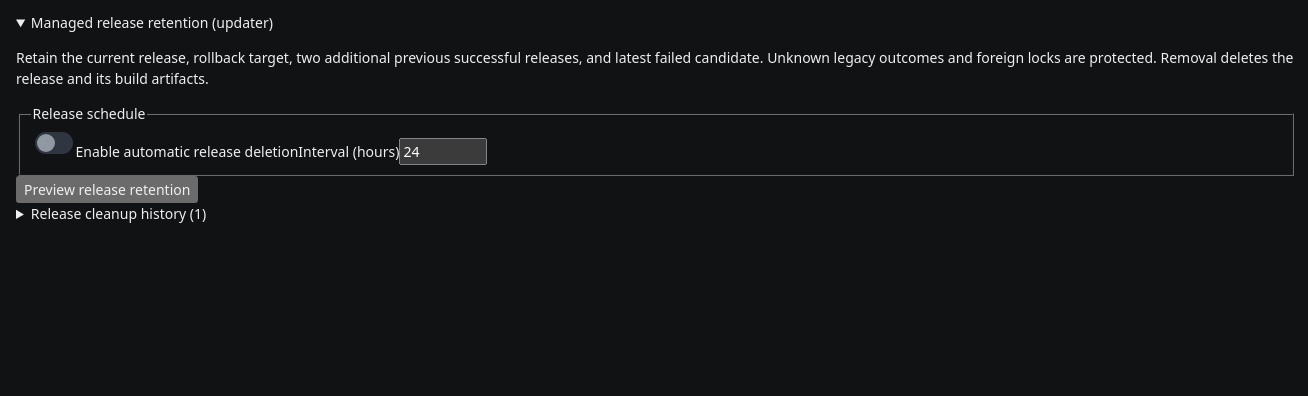
release retention panel › loads the policy on first open, saves schedule changes and previews then runs a cleanup
The width and height of the screenshot is (1308, 396).
Expected: the text "Release schedule" is shown, [30, 103, 148, 124]
Expected: the heading "Release cleanup history (1)" is shown, [31, 204, 206, 223]
Click the checkbox labelled "Enable automatic release deletion".
click(54, 143)  # box [34, 132, 72, 154]
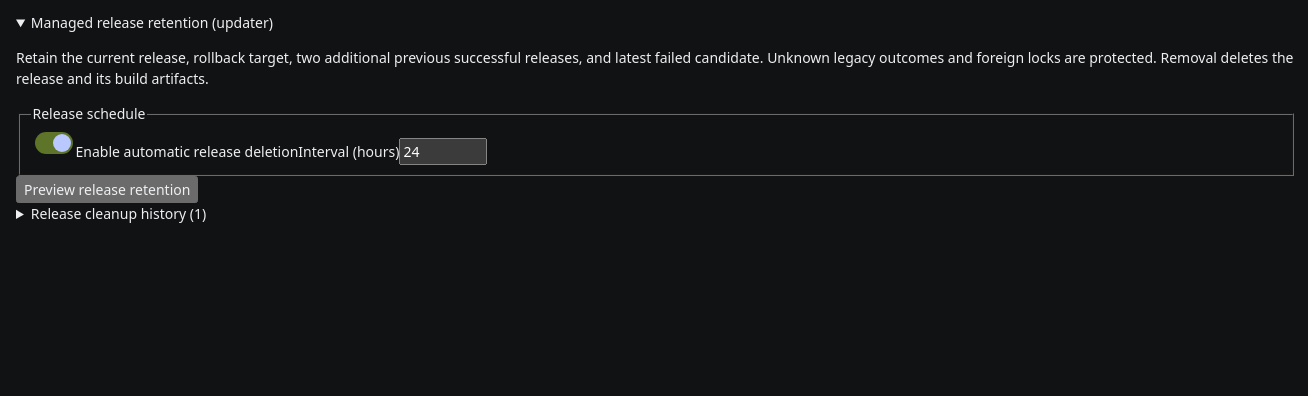
Leave the number field named "Release cleanup interval (hours)", box [399, 138, 487, 165]
Click the button "Preview release retention".
click(107, 189)  # box [16, 176, 198, 203]
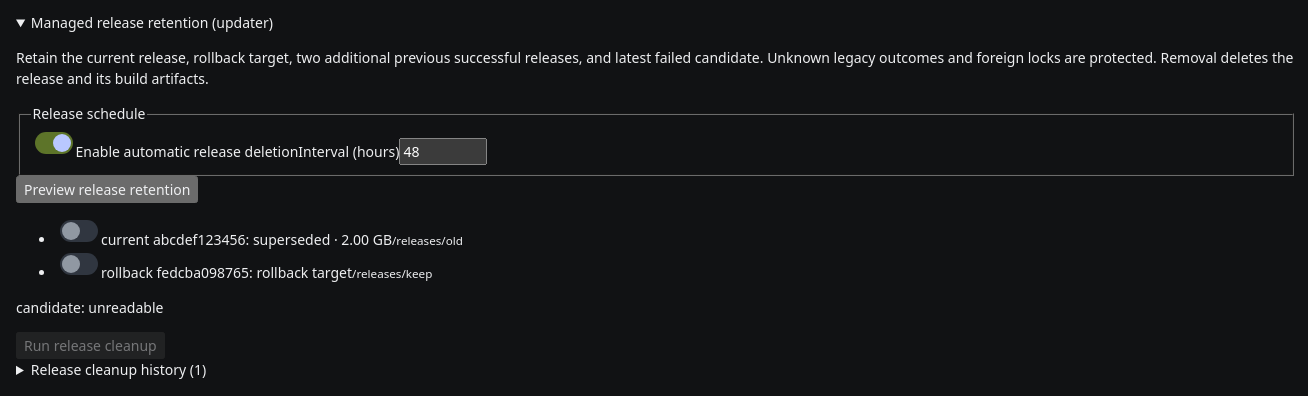
Now the text "current abcdef123456: superseded · 2.00 GB" is shown, box [56, 230, 392, 249]
Now the text "rollback fedcba098765: rollback target" is shown, box [56, 263, 352, 282]
Now the text "candidate: unreadable" is shown, box [16, 298, 163, 317]
Click the checkbox named "Select release abcdef1234567890".
click(79, 231)  # box [60, 220, 98, 242]
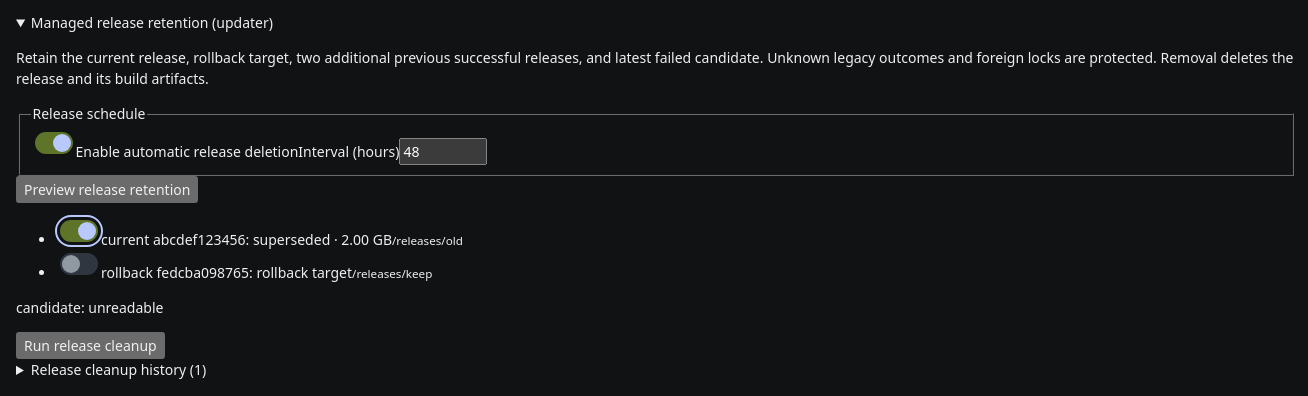
Click the checkbox named "Select release abcdef1234567890".
click(79, 231)  # box [60, 220, 98, 242]
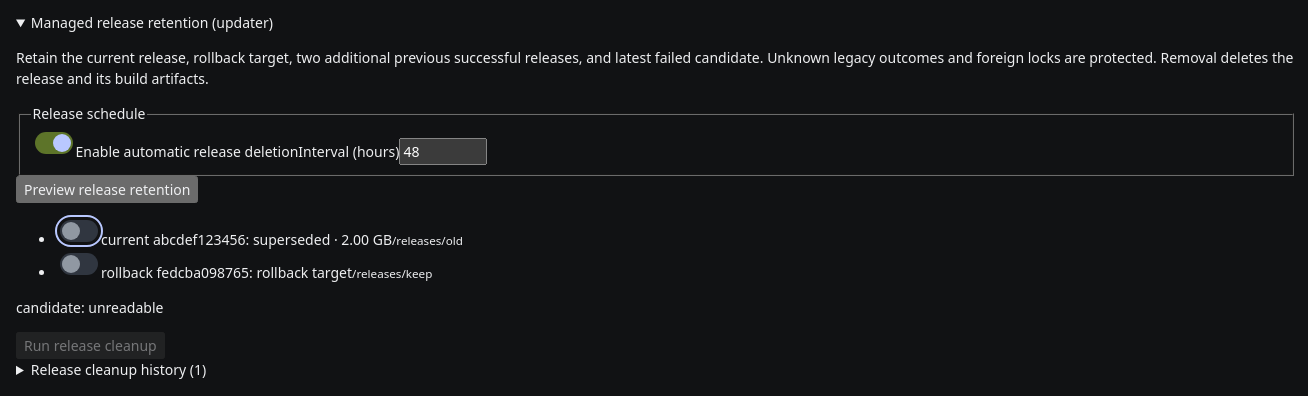
Click the checkbox named "Select release abcdef1234567890".
click(79, 231)  # box [60, 220, 98, 242]
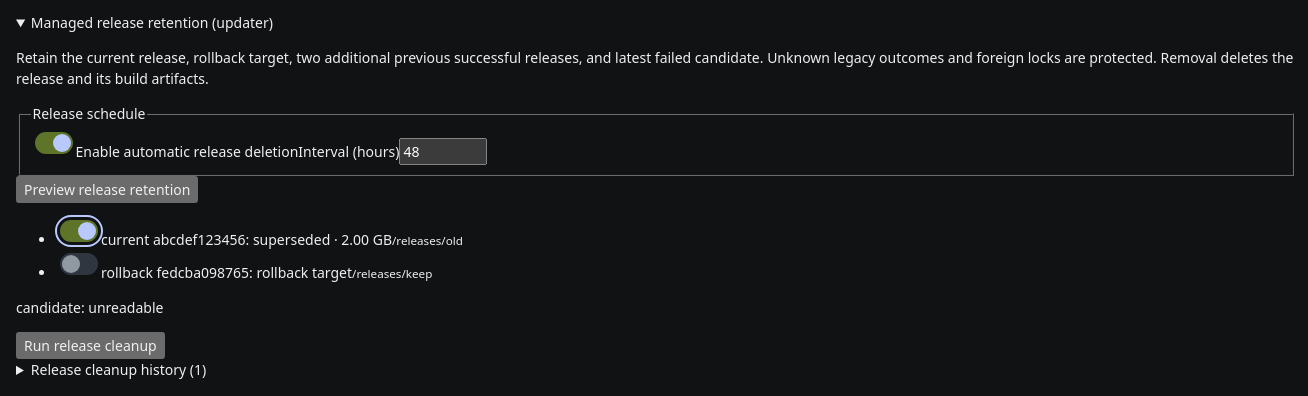
Click the button "Run release cleanup".
click(90, 345)  # box [16, 332, 165, 359]
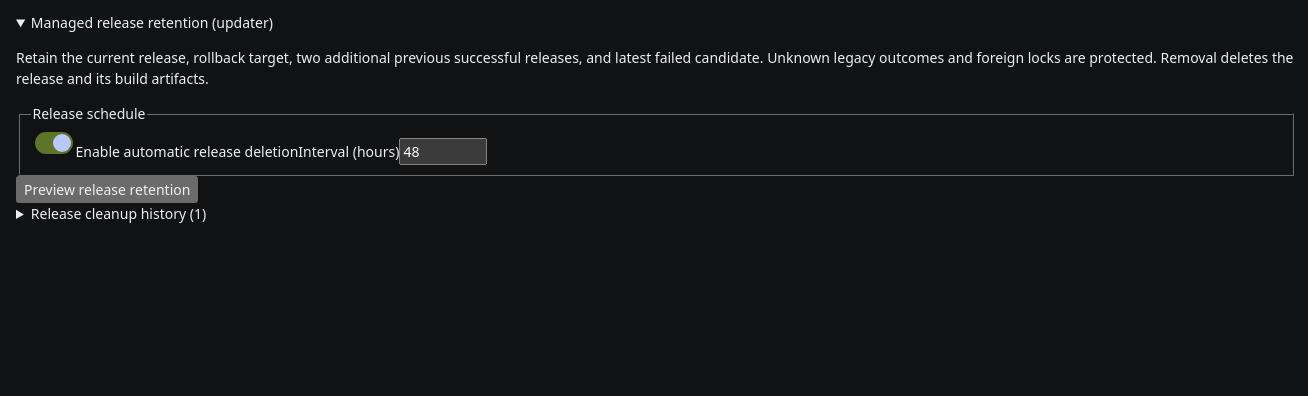
Now the button "Run release cleanup" is gone
